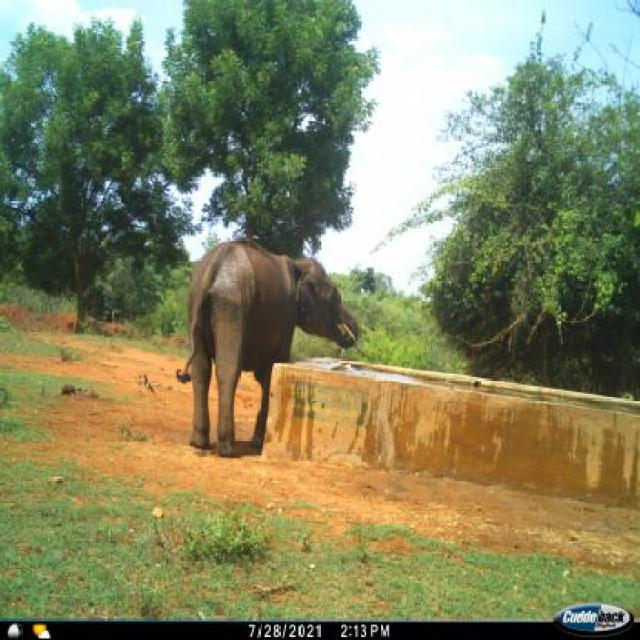Elephant: (185, 238, 363, 454)
